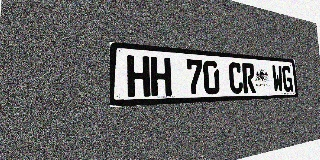0: (203, 60, 220, 95)
7: (185, 59, 204, 95)
C: (228, 62, 243, 94)
G: (282, 66, 293, 92)
H: (127, 55, 150, 97), (150, 57, 172, 96)
R: (242, 63, 256, 93)
W: (272, 65, 284, 92)
